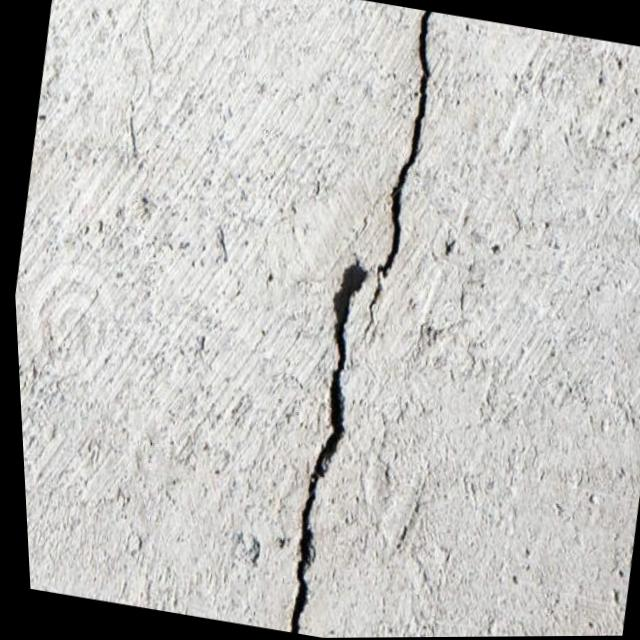Crack: (247, 0, 472, 639)
